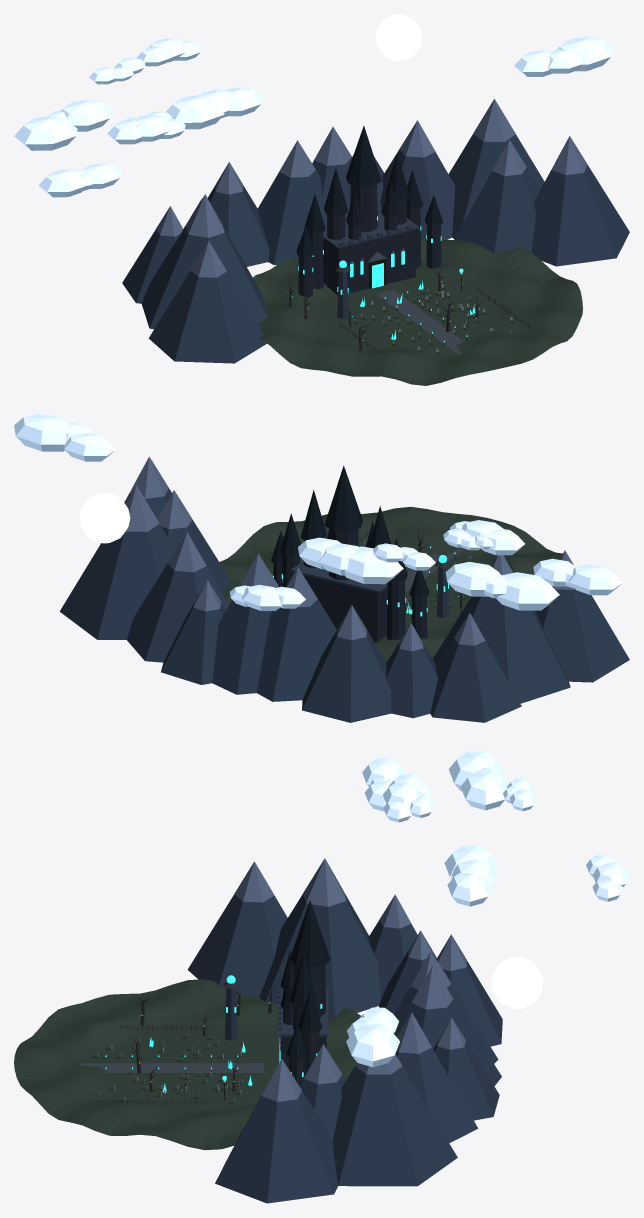
Rendered from necropole.glb.
3 renders of one model, top to bottom at view 1: azimuth 30°, elevation 25°; view 2: azimuth 150°, elevation 25°; view 3: azimuth 270°, elevation 25°, orthographic. The views are drawn at different scales.
Parts seen in each view (by area): view 1: Montanhas, Terreno, Nuvens, Torres, Castelo, Lua, Tumulos, Lateral, Arvores; view 2: Montanhas, Nuvens, Terreno, Torres, Castelo, Lua, Lateral; view 3: Montanhas, Terreno, Nuvens, Torres, Lua, Tumulos, Castelo, Lateral, Arvores.
Boxes of the visible parts, x1,y1,x2,y2 form: Montanhas: (122, 99, 629, 363); Terreno: (253, 236, 582, 385); Nuvens: (14, 36, 612, 197); Torres: (296, 125, 442, 297); Castelo: (323, 214, 418, 294); Lua: (375, 14, 422, 61); Tumulos: (353, 282, 515, 354); Lateral: (336, 260, 463, 319); Arvores: (284, 265, 483, 350); Montanhas: (60, 456, 629, 722); Nuvens: (14, 414, 622, 610); Terreno: (219, 507, 562, 661); Torres: (271, 465, 429, 639); Castelo: (290, 560, 387, 642); Lua: (79, 492, 130, 543); Lateral: (435, 555, 450, 618); Montanhas: (187, 858, 502, 1203); Terreno: (14, 979, 360, 1150); Nuvens: (346, 751, 629, 1067); Torres: (280, 900, 330, 1085); Lua: (491, 956, 543, 1008); Tumulos: (92, 1034, 242, 1103); Castelo: (278, 988, 328, 1068); Lateral: (222, 975, 239, 1100); Arvores: (131, 984, 276, 1091).
Bounding box in the file's own units: 110 × 34.18 × 93.59.
